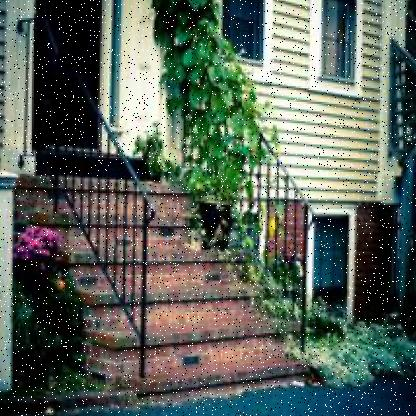stair_up: (123, 278, 320, 388)
